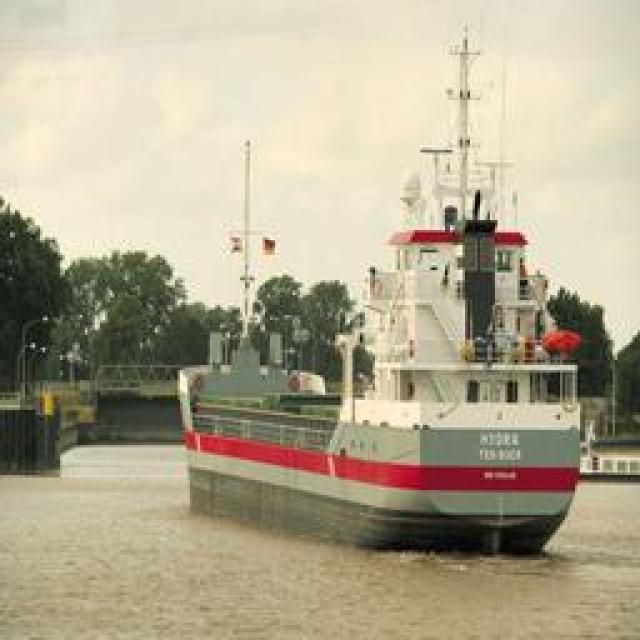ship2: (177, 27, 582, 561)
